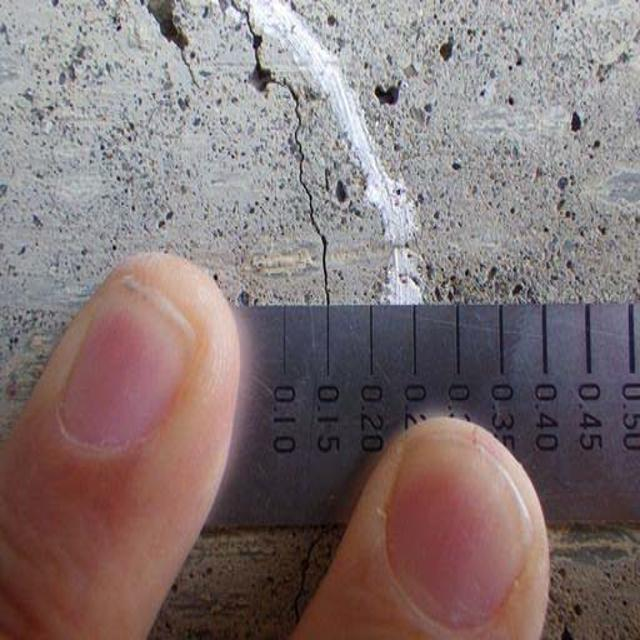crack: (226, 11, 350, 300)
